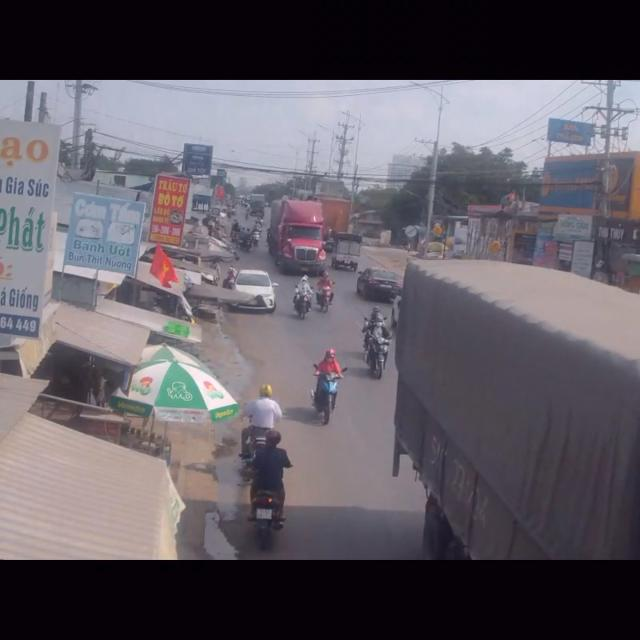car: (233, 271, 278, 314), (356, 268, 401, 302)
motorbike: (245, 436, 291, 543), (237, 382, 283, 453), (314, 349, 344, 425), (364, 305, 394, 379), (297, 273, 313, 318), (318, 271, 333, 308)
truck: (394, 259, 640, 563), (272, 198, 322, 276), (334, 233, 361, 268)
